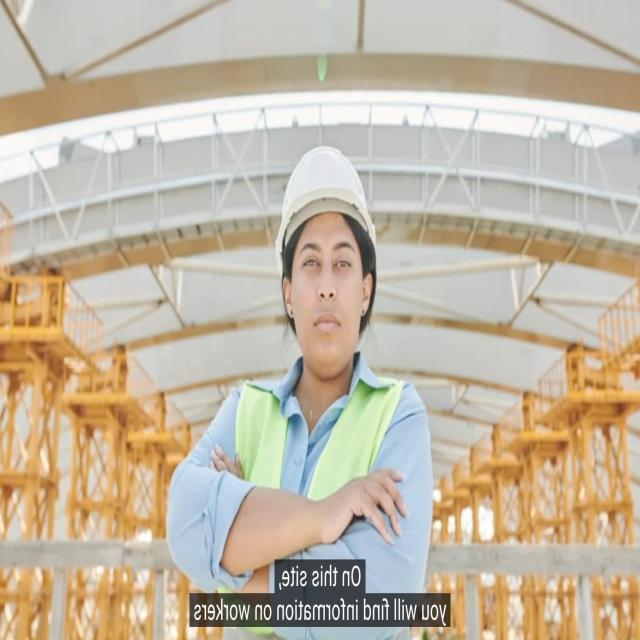reflective_jacket: (230, 363, 412, 566)
safety_helmet: (273, 138, 381, 260)
